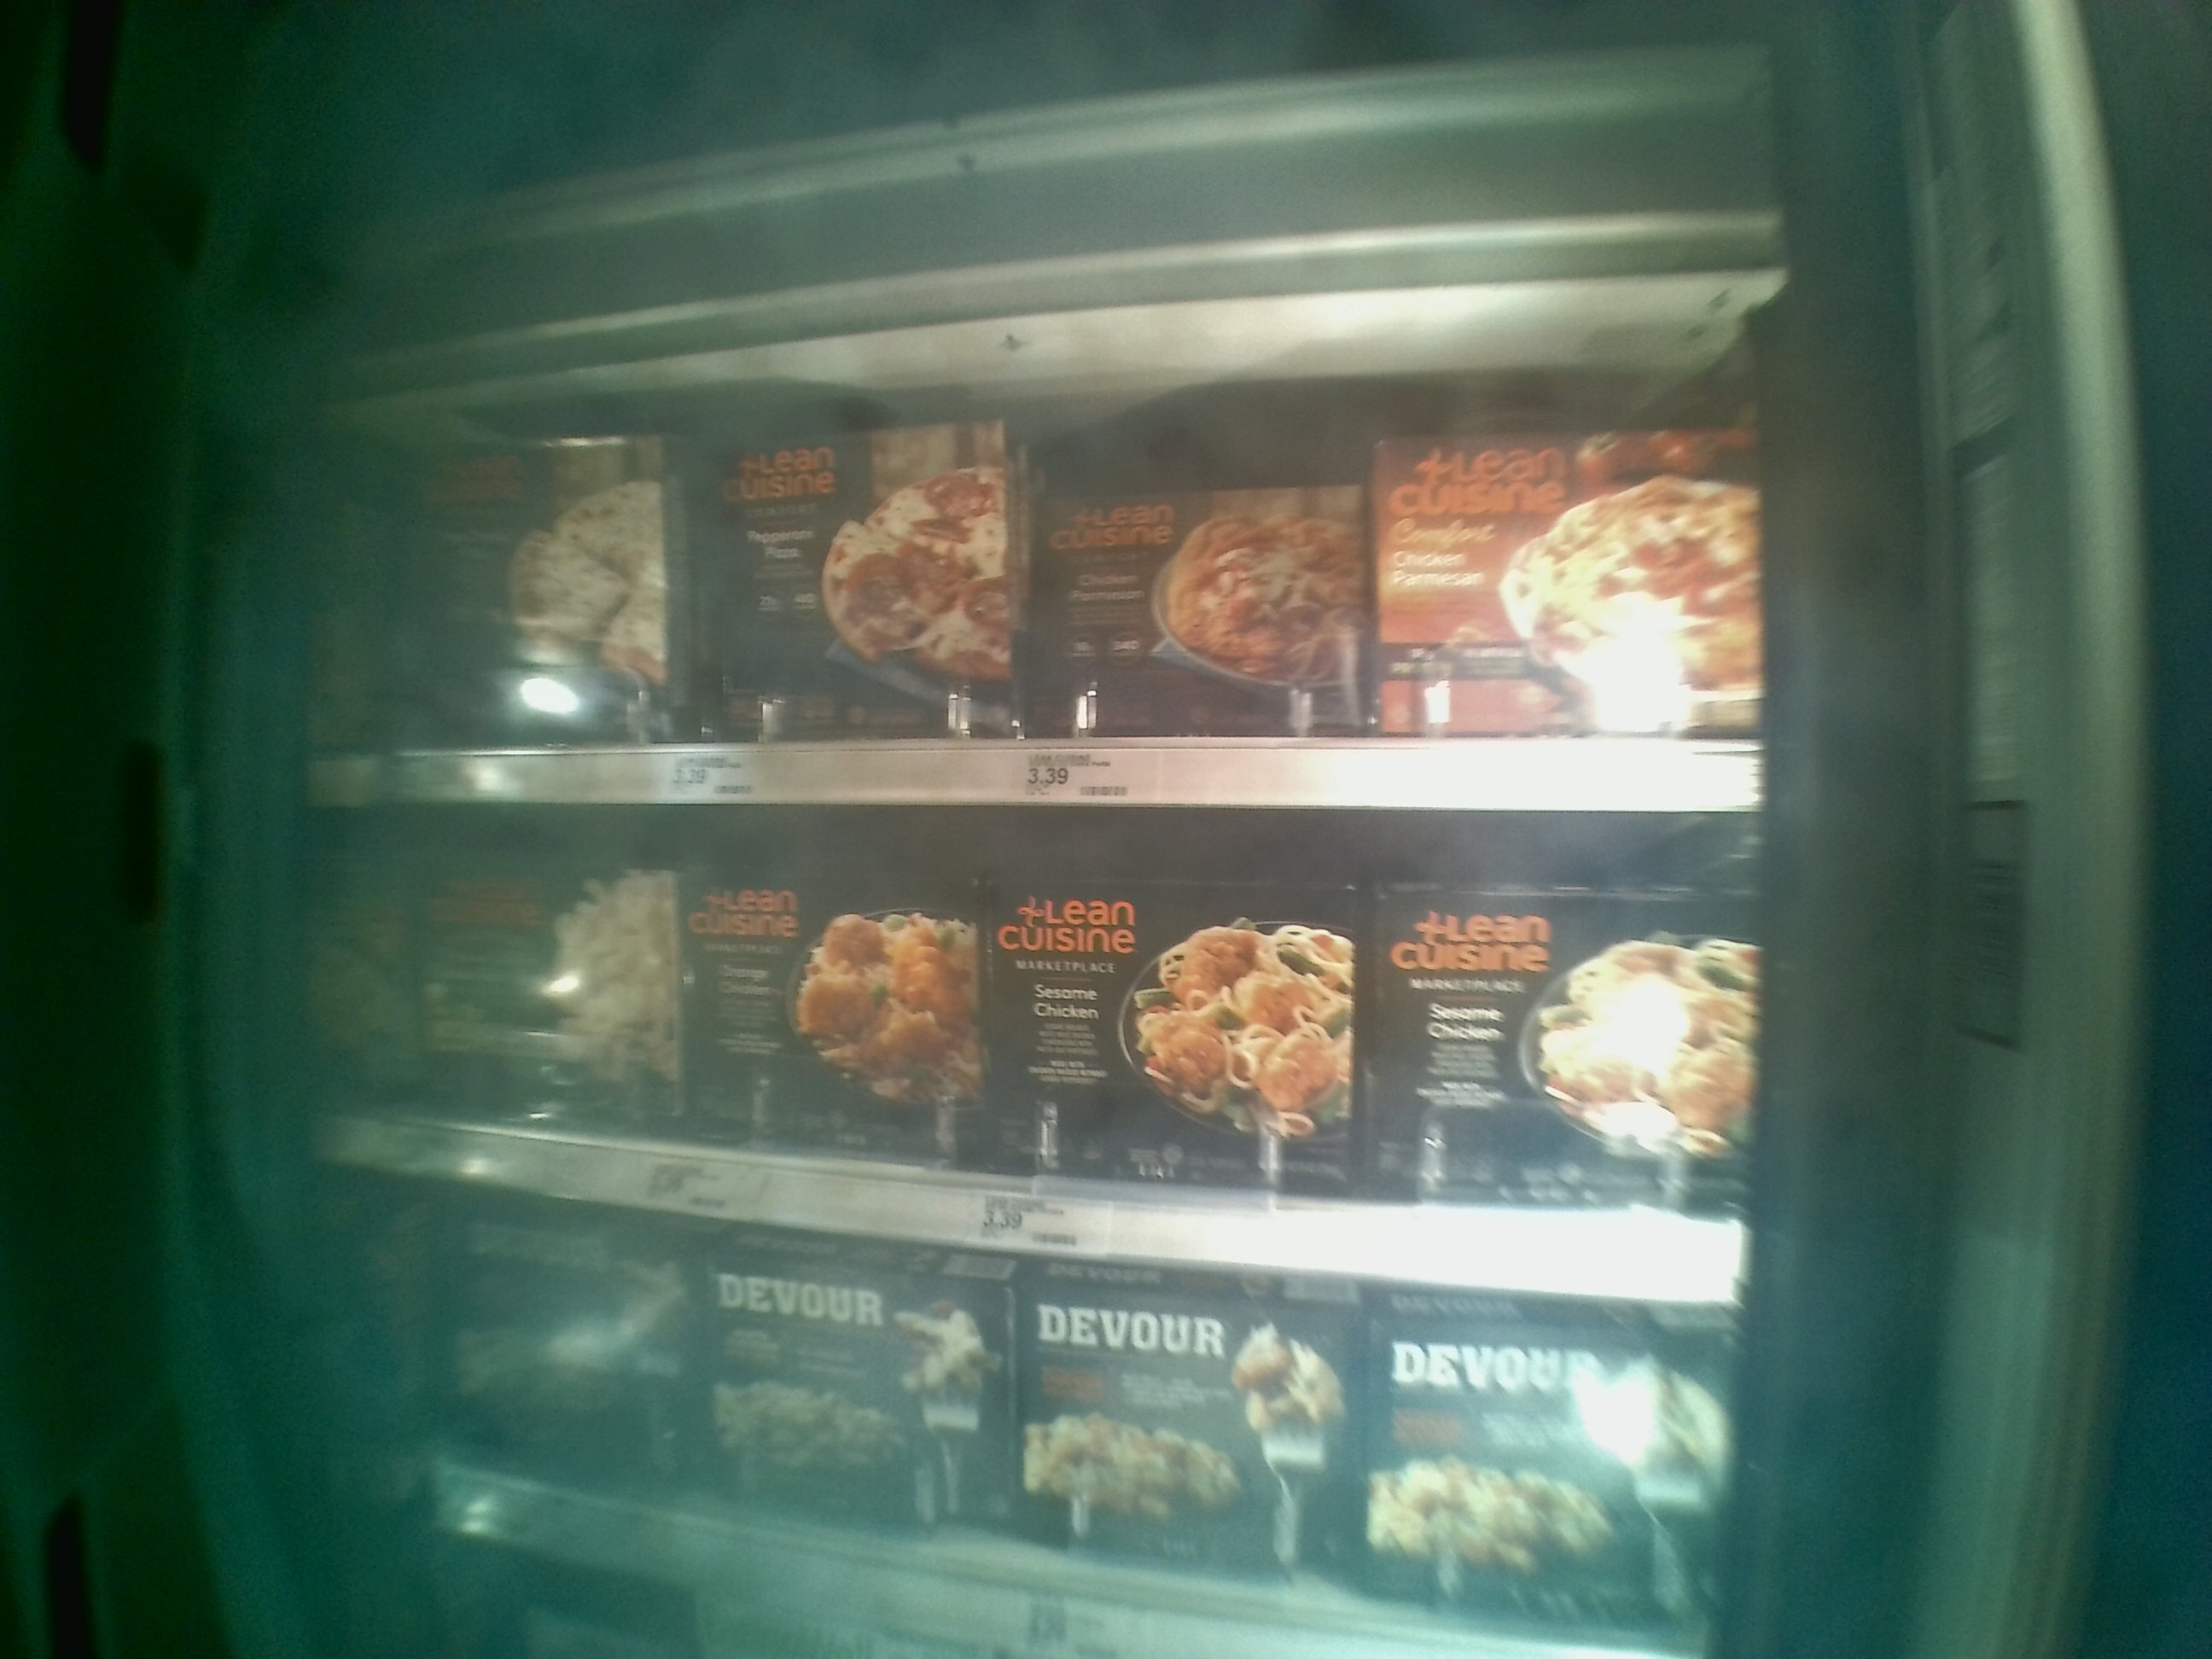shelf: (317, 296, 1743, 812), (329, 803, 1754, 1244)
